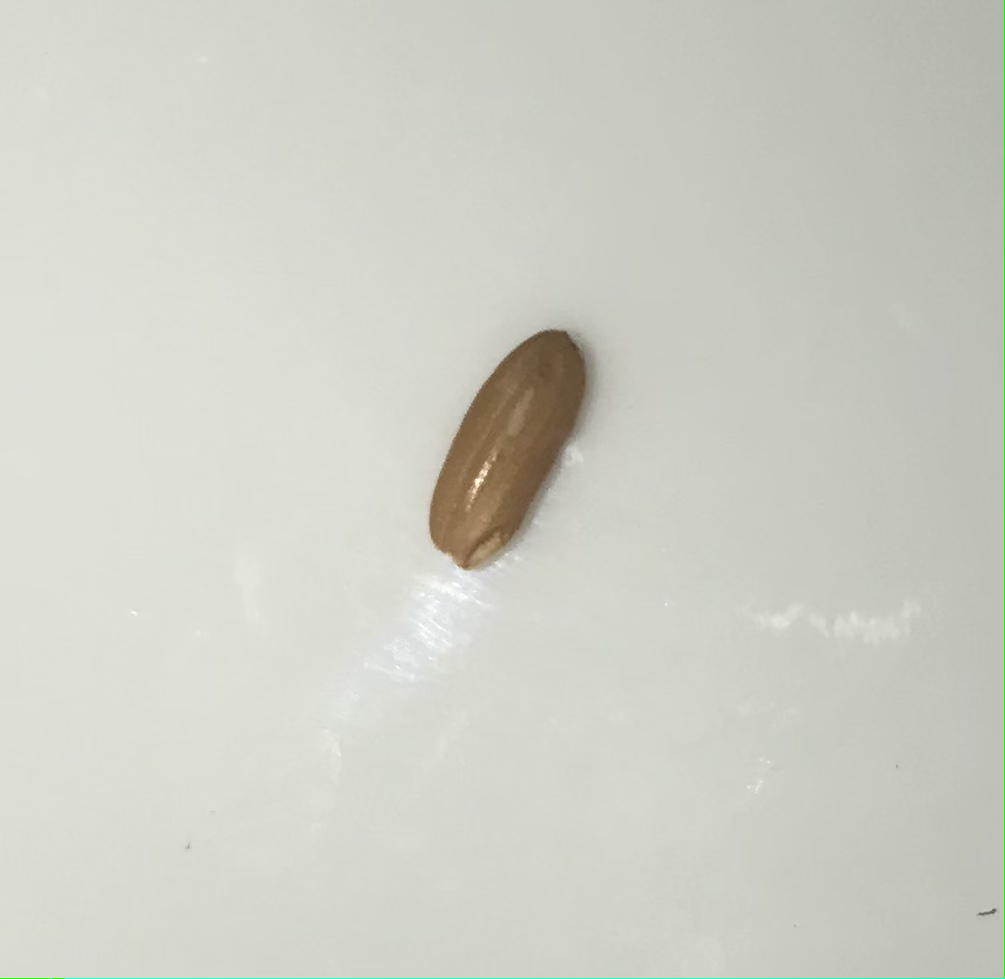Gao Lut Dien Bien: (422, 328, 592, 570)
